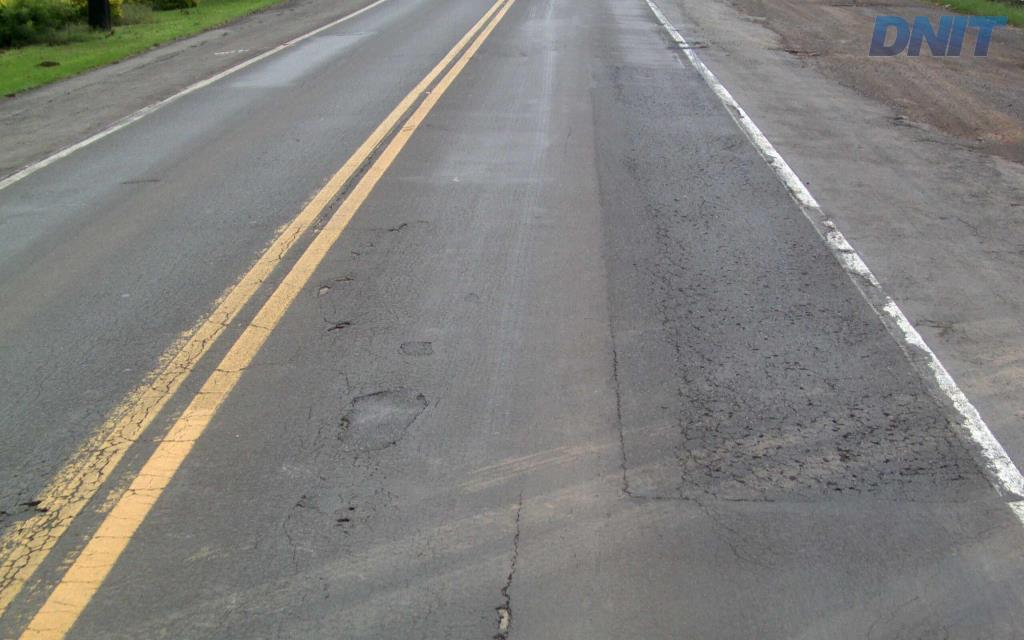crack: (898, 445, 963, 486), (493, 570, 515, 639), (838, 416, 882, 446), (685, 388, 717, 422)
pothole: (487, 600, 516, 631), (319, 315, 354, 333), (314, 284, 332, 299)
